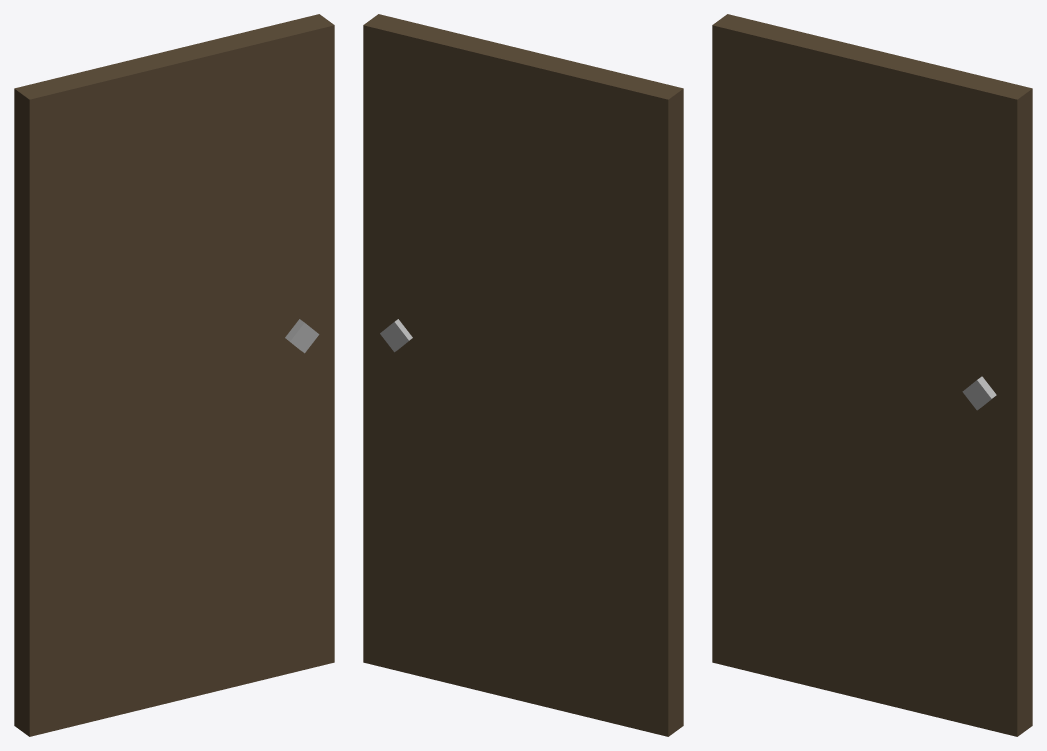
The model's file is Door.fbx.
The picture shows the model from 3 angles, left to right: view 1: azimuth 30°, elevation 25°; view 2: azimuth 150°, elevation 25°; view 3: azimuth 330°, elevation 25°; orthographic projection.
Parts seen in each view (by area): view 1: Cube; view 2: Cube; view 3: Cube.
Part boxes in pixels (left/top/right/bottom): Cube: left=14, top=14, right=334, bottom=736; Cube: left=363, top=14, right=683, bottom=736; Cube: left=712, top=14, right=1032, bottom=736.
Bounding box in the file's own units: 91.82 × 183 × 12.77.
